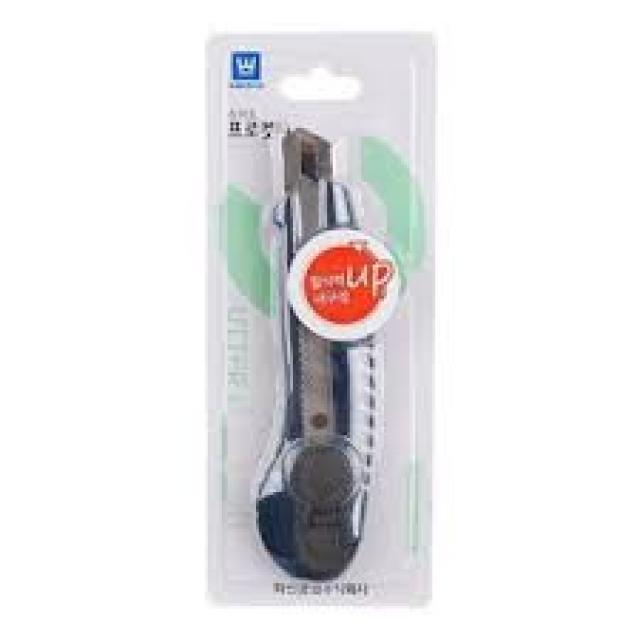cutter: (242, 114, 390, 586)
